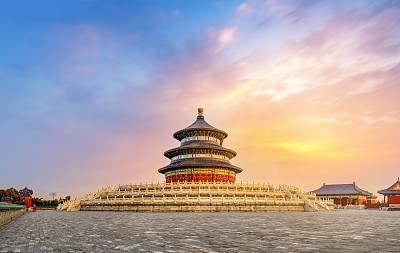Heaven: (158, 107, 243, 184)
